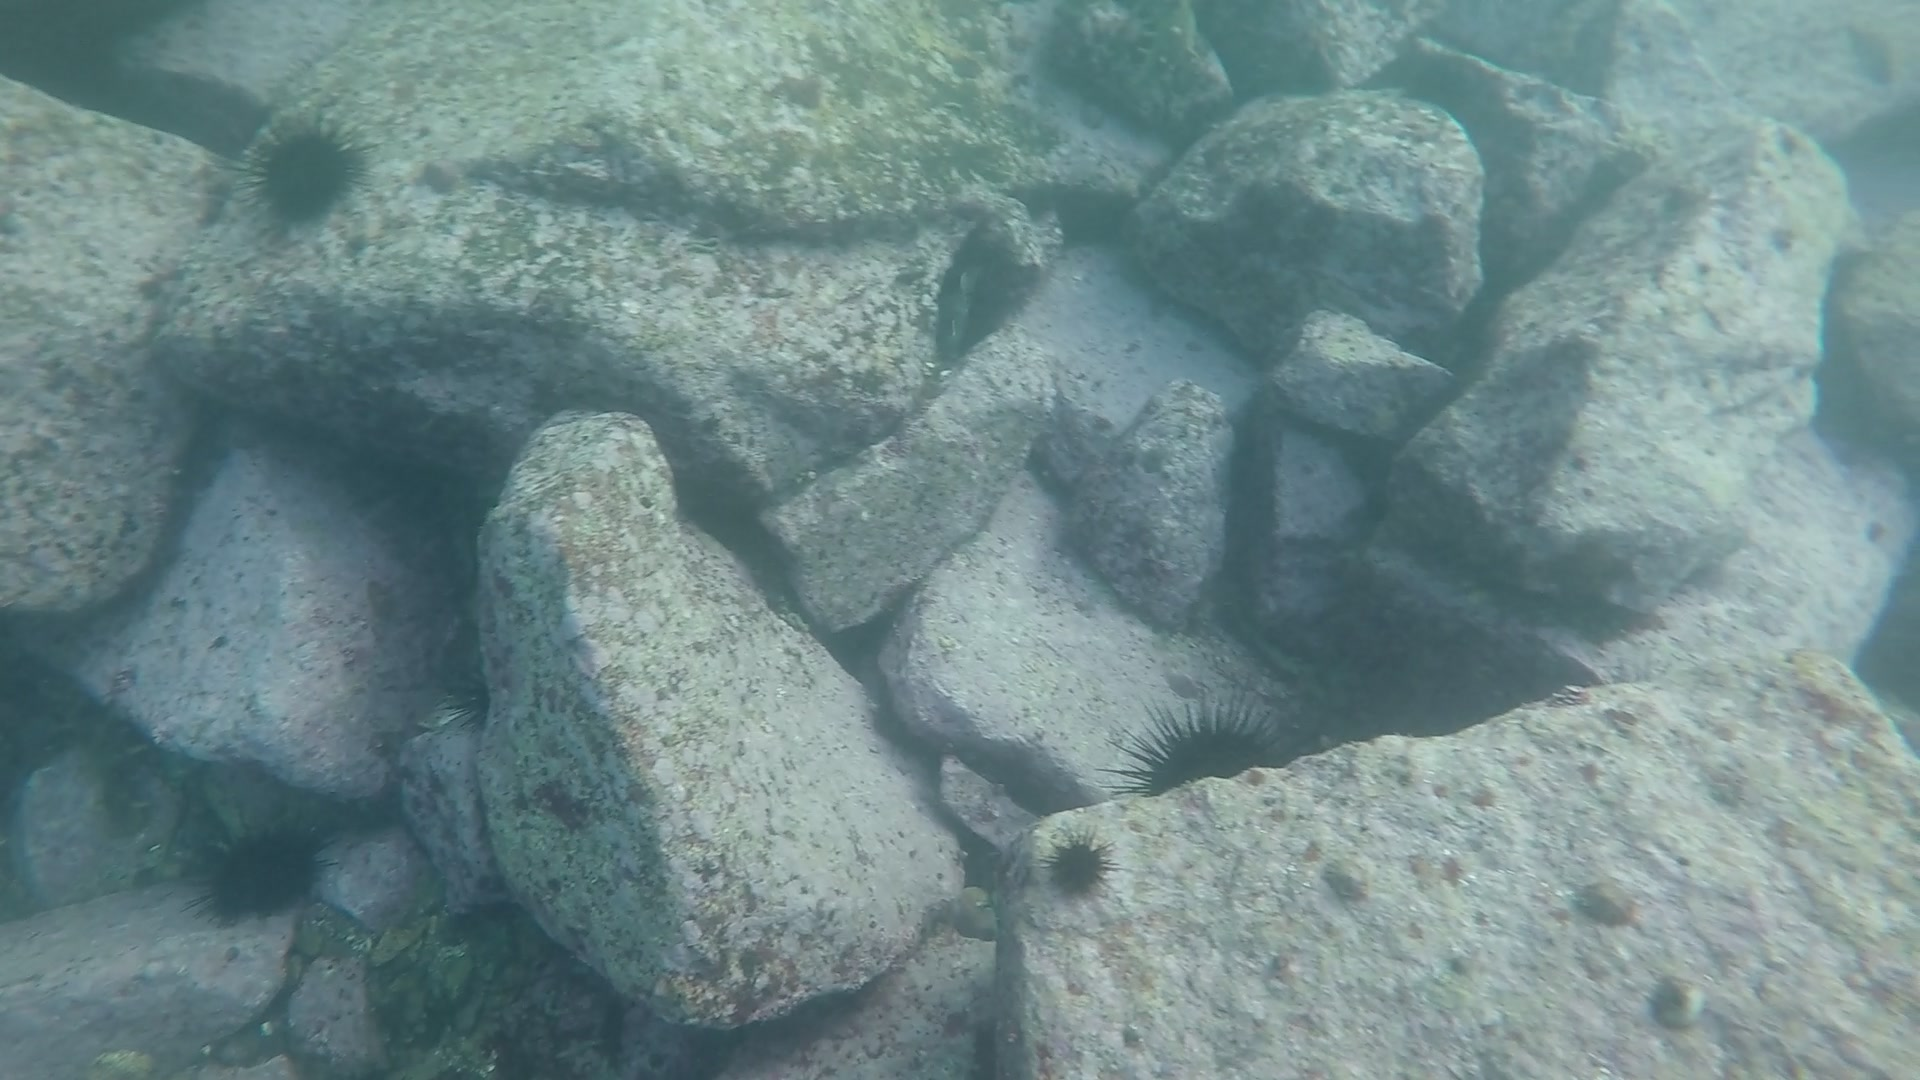echinus: (1100, 705, 1294, 807), (174, 811, 342, 928), (228, 112, 390, 231), (1042, 824, 1117, 909)
holothurian: (20, 673, 174, 876)
